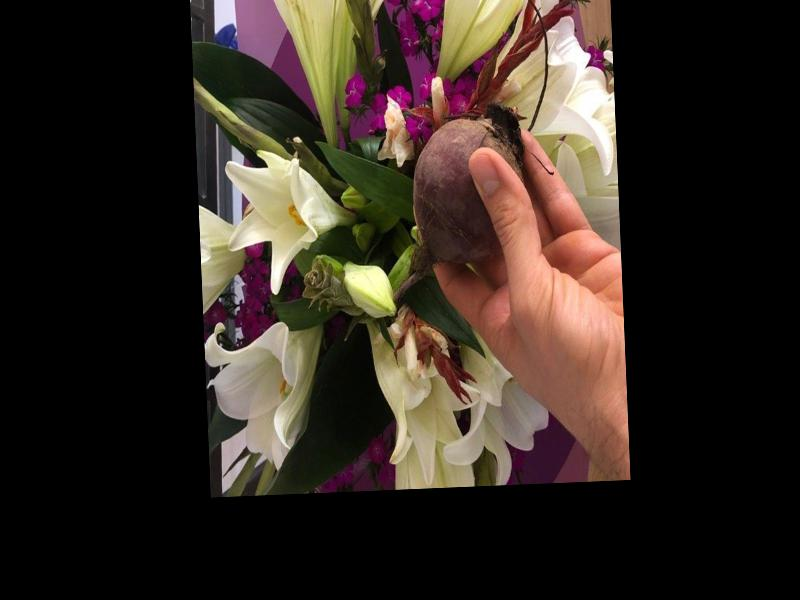Beet: (383, 102, 530, 306)
